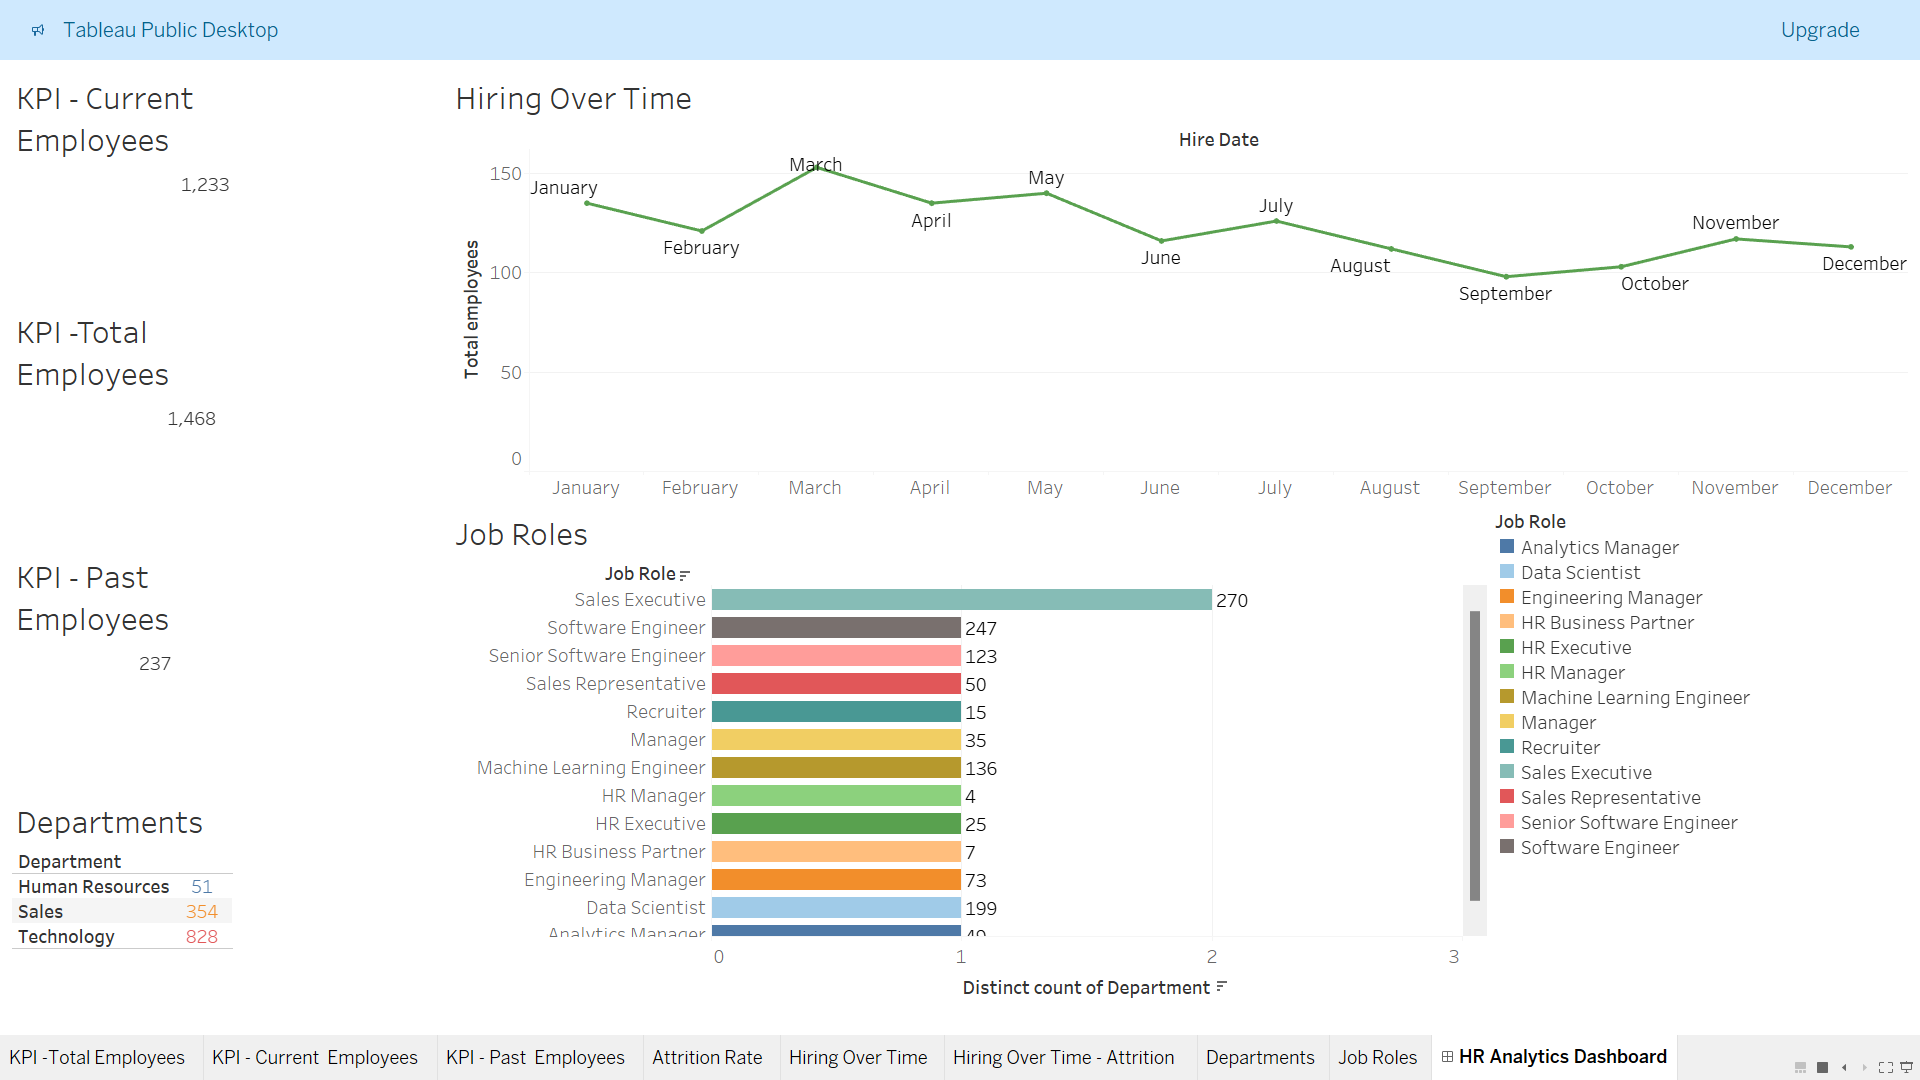

Layout of this report page (visuals, bound fields, positions):
{"tool":"tableau","page":{"name":"HR Analytics Dashboard","canvas":[1000,1000],"units":"permille","ordinal":0},"visuals":[{"type":"worksheet","title":"KPI - Current  Employees","mark":"Automatic","box":[4.8,10.7,202,238.6]},{"type":"worksheet","title":"Hiring Over Time","mark":"Automatic","rows":["Calculation_711850237062434825"],"cols":["HireDate"],"box":[206.8,10.7,788.4,445]},{"type":"worksheet","title":"KPI -Total Employees","mark":"Automatic","box":[4.8,249.3,202,250.7]},{"type":"worksheet","title":"Job Roles","mark":"Automatic","rows":["JobRole"],"cols":["Department"],"box":[206.8,455.8,569.4,533.5]},{"type":"legend","title":"Job Roles","param":"[federated.1cs6vu01js7ne317fssaj0wcnjgq].[none:JobRole:nk]","box":[776.2,455.8,218.9,533.5]},{"type":"worksheet","title":"KPI - Past  Employees","mark":"Automatic","box":[4.8,500,202,249.3]},{"type":"worksheet","title":"Departments","mark":"Automatic","rows":["Department"],"box":[4.8,749.3,202,240]}]}

Visuals, with their boxes on the dashboard's canvas, which has no fixed pixel size, in thousandths of its width and height (x1, y1, x2, y2). These are canvas units, not pixel positions in the 1920x1080 screenshot, which may show the page scaled, cropped or inside an application window:
"KPI - Current  Employees" worksheet: box=[5, 11, 207, 249]
"Hiring Over Time" worksheet: box=[207, 11, 995, 456]
"KPI -Total Employees" worksheet: box=[5, 249, 207, 500]
"Job Roles" worksheet: box=[207, 456, 776, 989]
"Job Roles" legend: box=[776, 456, 995, 989]
"KPI - Past  Employees" worksheet: box=[5, 500, 207, 749]
"Departments" worksheet: box=[5, 749, 207, 989]
